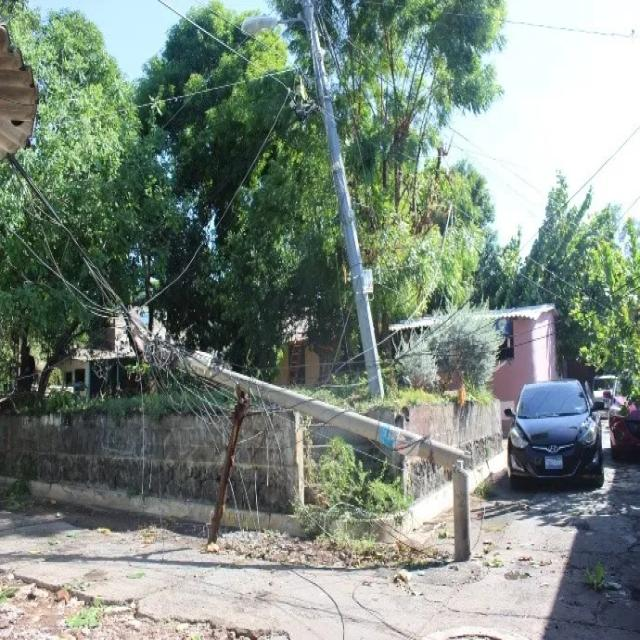Inclined Pole: (140, 333, 475, 569)
